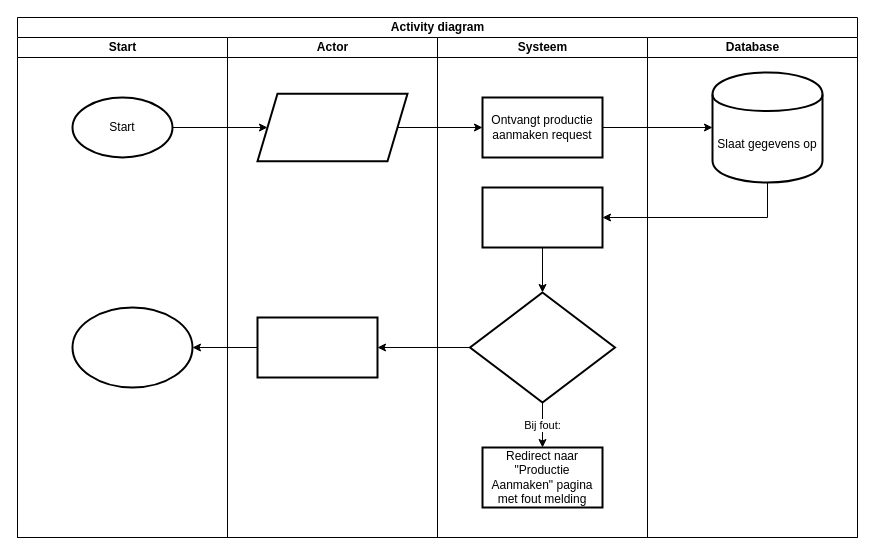
The diagram is 875 pixels wide and 555 high, and some of its shapes have lost their labels. The centre of each missing label's shape, as x and y in pixels:
"Checked of het opslaan goed is gegaan" belongs at (542,217).
"Geeft goed of fout terug" belongs at (542,347).
"Heeft productie succesvol aangemaakt" belongs at (317,347).
"Input productie gegevens" belongs at (332,127).
"stop" belongs at (132,347).
